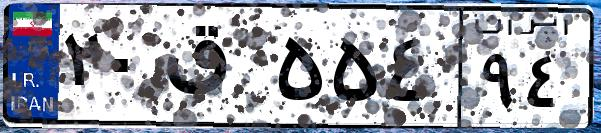0: (110, 28, 158, 98)
2: (57, 26, 110, 100)
4: (385, 28, 445, 110), (525, 38, 570, 115)
5: (270, 28, 330, 110), (330, 28, 385, 110)
9: (475, 38, 525, 113)
ق: (158, 20, 270, 120)
